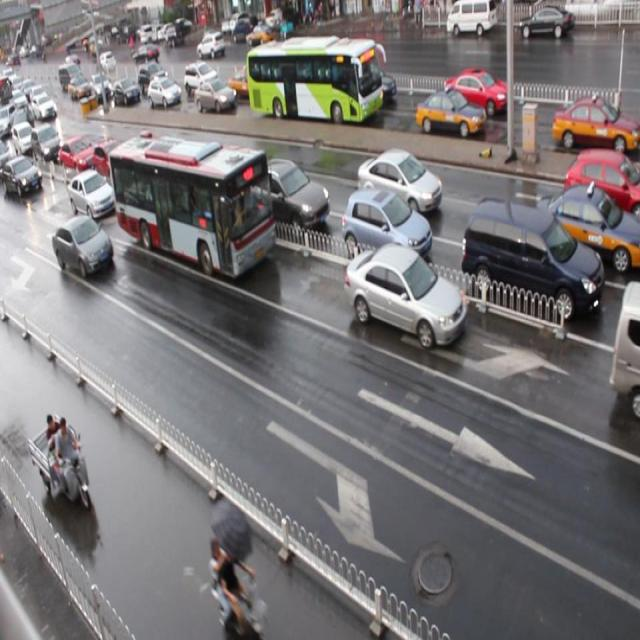car: (344, 242, 465, 352), (534, 182, 640, 275), (340, 188, 430, 272), (561, 148, 640, 225), (356, 149, 441, 220), (247, 159, 328, 233), (552, 97, 623, 154), (52, 215, 114, 279), (176, 150, 241, 207), (418, 88, 486, 140), (446, 70, 514, 118), (336, 64, 398, 109), (131, 145, 178, 194), (68, 171, 116, 218), (0, 153, 42, 201), (195, 78, 237, 114), (88, 136, 125, 175), (59, 135, 95, 173), (183, 61, 218, 97), (227, 70, 265, 102), (148, 78, 182, 109), (30, 127, 58, 162), (137, 64, 168, 95), (113, 79, 141, 108), (91, 74, 111, 103)
truck: (461, 195, 603, 325), (611, 278, 640, 413)
van: (108, 133, 275, 282), (247, 35, 384, 125)
